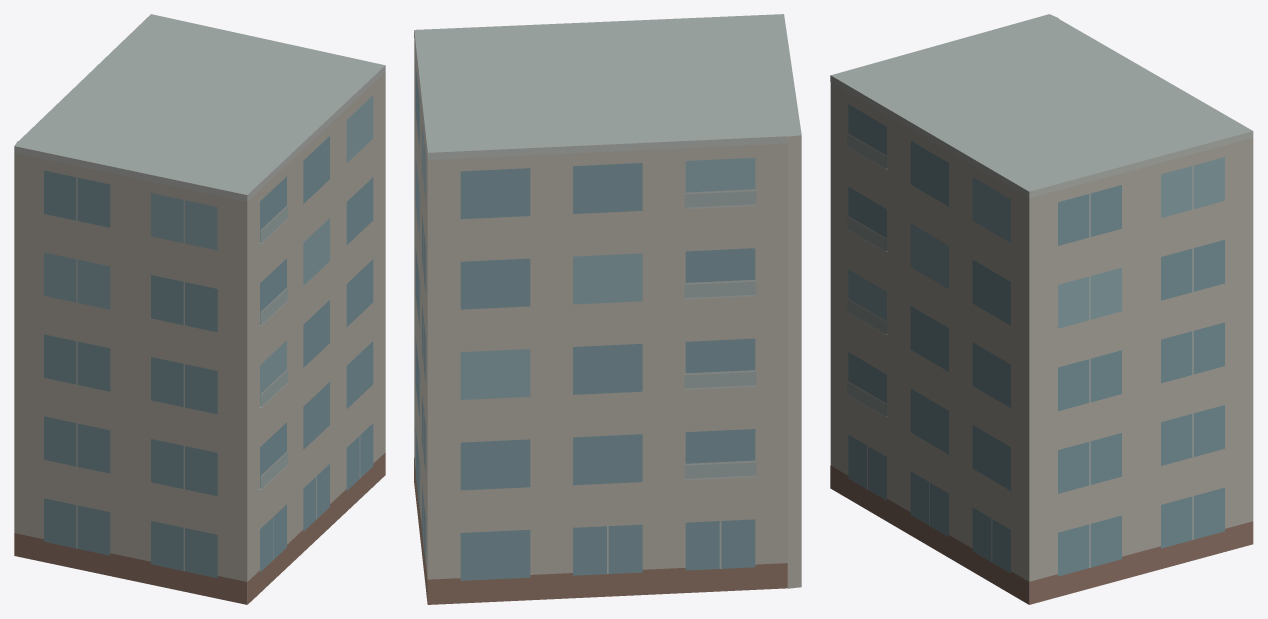
File: survey-upis-32953326.glb
3 renders of one model, left to right at view 1: azimuth 30°, elevation 25°; view 2: azimuth 150°, elevation 25°; view 3: azimuth 270°, elevation 25°, orthographic. The views are drawn at different scales.
Parts seen in each view (by area): view 1: survey-upis-32953326.tmp; view 2: survey-upis-32953326.tmp; view 3: survey-upis-32953326.tmp.
Boxes of the visible parts, x1,y1,x2,y2 form: survey-upis-32953326.tmp: [14, 14, 385, 604]; survey-upis-32953326.tmp: [414, 14, 801, 604]; survey-upis-32953326.tmp: [830, 14, 1253, 604].
Size of the model in its own units: 14.03 by 15.2 by 14.1.
